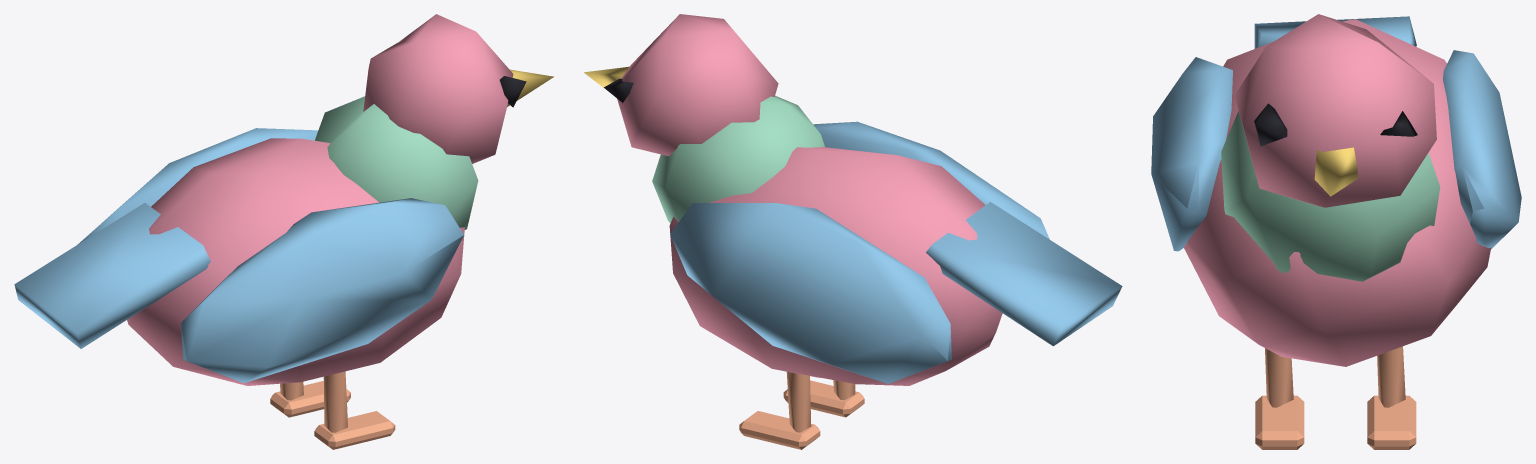
The model's file is rainbow_pigeon.glb.
The picture shows the model from 3 angles, left to right: view 1: azimuth 30°, elevation 25°; view 2: azimuth 150°, elevation 25°; view 3: azimuth 270°, elevation 25°; orthographic projection. The views are drawn at different scales.
Parts seen in each view (by area): view 1: rainbow_pigeon; view 2: rainbow_pigeon; view 3: rainbow_pigeon.
Part boxes in pixels (box(x1,y1,x2,y2)): rainbow_pigeon: box(14, 14, 553, 449); rainbow_pigeon: box(584, 14, 1122, 449); rainbow_pigeon: box(1151, 14, 1521, 449).
Bounding box in the file's own units: 0.5328 × 0.3664 × 0.2648.
Materials: 1 (1 with a texture image).
